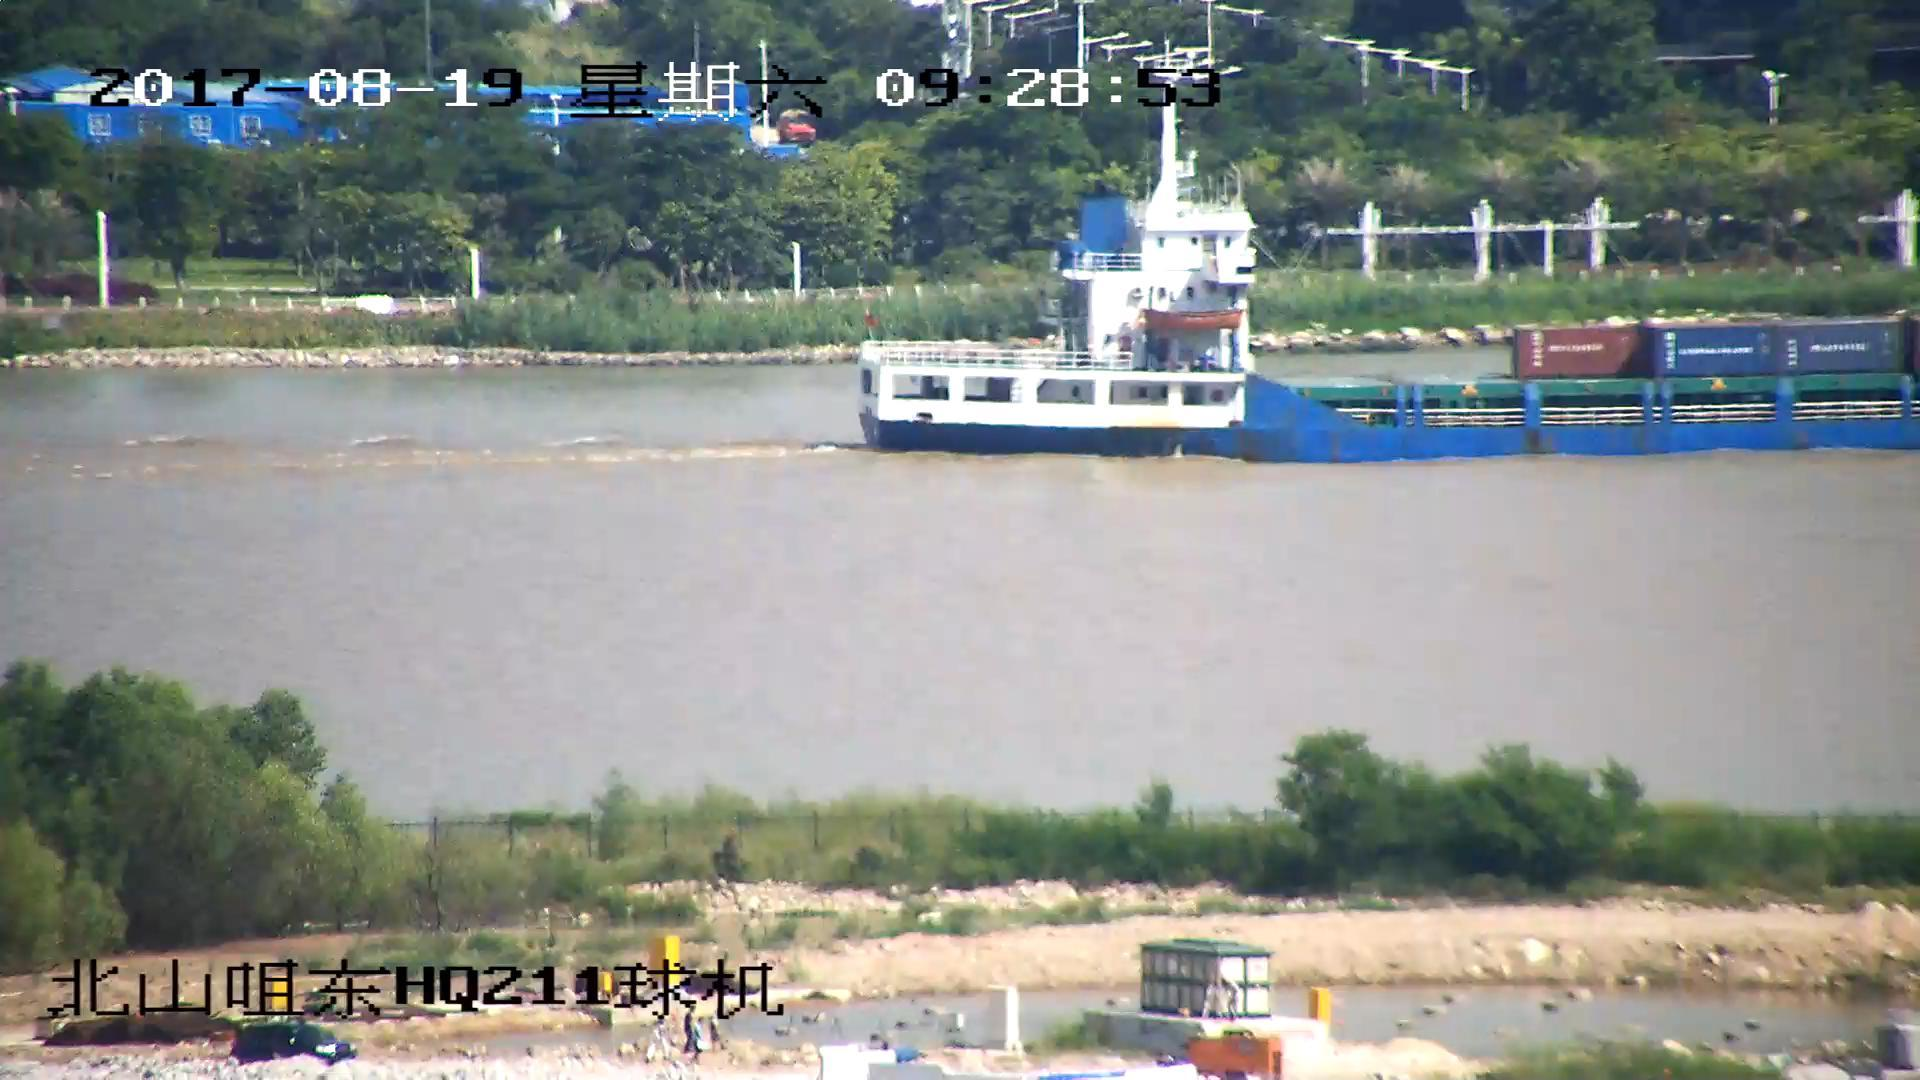Ship: (858, 117, 1920, 465)
